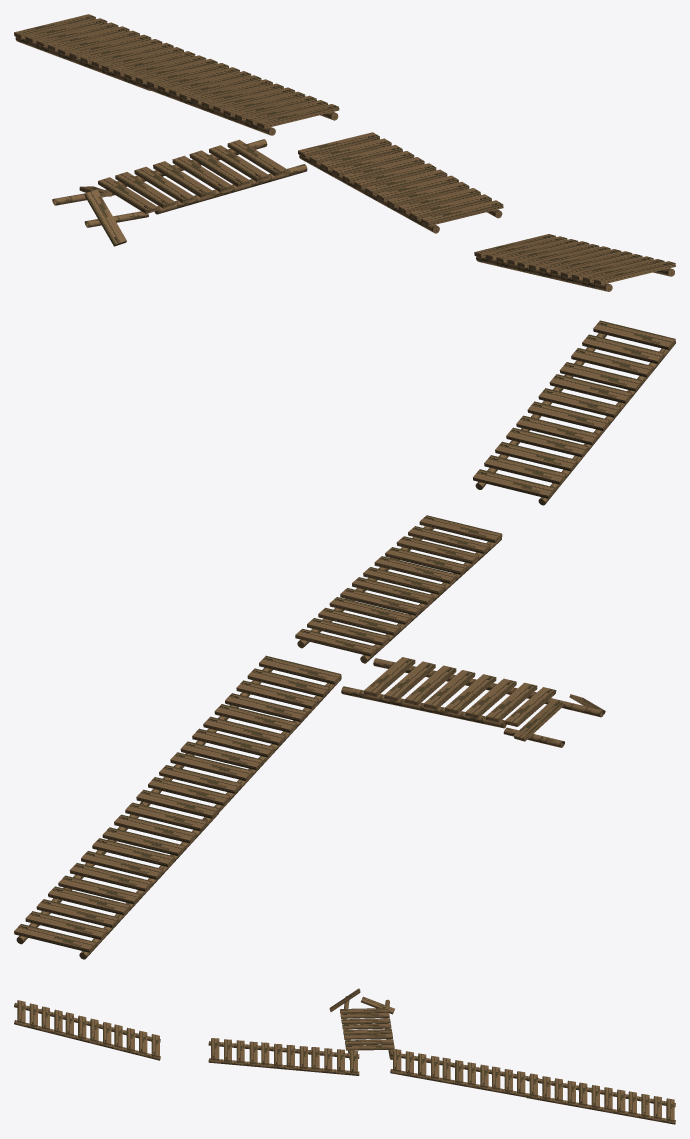
The model's file is HtoW_D.obj.
The picture shows the model from 3 angles, top to bottom: view 1: azimuth 30°, elevation 25°; view 2: azimuth 150°, elevation 25°; view 3: azimuth 270°, elevation 25°; orthographic projection. The views are drawn at different scales.
Visible parts, largest first — view 1: Cube.284_Cube.013, Cube.259_Cube.010, Cube.288_Cube.013, Cube.287_Cube.013, Cube.293_Cube.013, Cube.292_Cube.013, Cube.290_Cube.013, Cube.291_Cube.013, Cube.286_Cube.013, Cube.289_Cube.013, Cube.237_Cube.010, Cube.252_Cube.010 (+47 smaller); view 2: Cube.245_Cube.009, Cube.242_Cube.009, Cube.244_Cube.009, Cube.249_Cube.009, Cube.250_Cube.009, Cube.240_Cube.009, Cube.241_Cube.009, Cube.246_Cube.009, Cube.248_Cube.009, Cube.239_Cube.009, Cube.243_Cube.009, Cube.247_Cube.009 (+35 smaller); view 3: Log.030_Log.005, Log.025_Log.003, Log.021_Log.003, Log.022_Log.002, Log.028_Log.004, Log.026_Log.003, Log.031_Log.005, Log.023_Log.002, Log.024_Log.002, Cube.289_Cube.013, Log.027_Log.004, Cube.288_Cube.013 (+8 smaller).
Boxes of the visible parts, bbox=[...] form: Cube.284_Cube.013: bbox=[84, 189, 126, 246]; Cube.259_Cube.010: bbox=[421, 200, 503, 226]; Cube.288_Cube.013: bbox=[134, 166, 194, 203]; Cube.287_Cube.013: bbox=[115, 172, 175, 208]; Cube.293_Cube.013: bbox=[227, 139, 287, 176]; Cube.292_Cube.013: bbox=[209, 145, 268, 181]; Cube.290_Cube.013: bbox=[172, 155, 232, 192]; Cube.291_Cube.013: bbox=[189, 150, 249, 187]; Cube.286_Cube.013: bbox=[98, 177, 157, 213]; Cube.289_Cube.013: bbox=[153, 161, 213, 197]; Cube.237_Cube.010: bbox=[309, 138, 391, 164]; Cube.252_Cube.010: bbox=[342, 157, 424, 182]; Cube.245_Cube.009: bbox=[527, 401, 610, 430]; Cube.242_Cube.009: bbox=[559, 362, 642, 391]; Cube.244_Cube.009: bbox=[538, 388, 621, 417]; Cube.249_Cube.009: bbox=[484, 455, 566, 484]; Cube.250_Cube.009: bbox=[473, 469, 555, 498]; Cube.240_Cube.009: bbox=[582, 334, 664, 363]; Cube.241_Cube.009: bbox=[571, 348, 653, 377]; Cube.246_Cube.009: bbox=[516, 415, 598, 444]; Cube.248_Cube.009: bbox=[495, 441, 577, 471]; Cube.239_Cube.009: bbox=[593, 320, 675, 349]; Cube.243_Cube.009: bbox=[549, 374, 632, 403]; Cube.247_Cube.009: bbox=[506, 427, 588, 457]; Log.030_Log.005: bbox=[626, 1094, 675, 1124]; Log.025_Log.003: bbox=[259, 1045, 309, 1071]; Log.021_Log.003: bbox=[309, 1050, 359, 1075]; Log.022_Log.002: bbox=[14, 1003, 63, 1036]; Log.028_Log.004: bbox=[440, 1060, 489, 1090]; Log.026_Log.003: bbox=[208, 1041, 259, 1066]; Log.031_Log.005: bbox=[576, 1085, 626, 1115]; Log.023_Log.002: bbox=[63, 1015, 112, 1048]; Log.024_Log.002: bbox=[111, 1027, 160, 1060]; Cube.289_Cube.013: bbox=[342, 1023, 391, 1029]; Log.027_Log.004: bbox=[390, 1051, 440, 1081]; Cube.288_Cube.013: bbox=[341, 1018, 390, 1024].
Bounding box in the file's own units: 8.53 × 5.21 × 29.38.
Materials: 15 (15 with a texture image).
